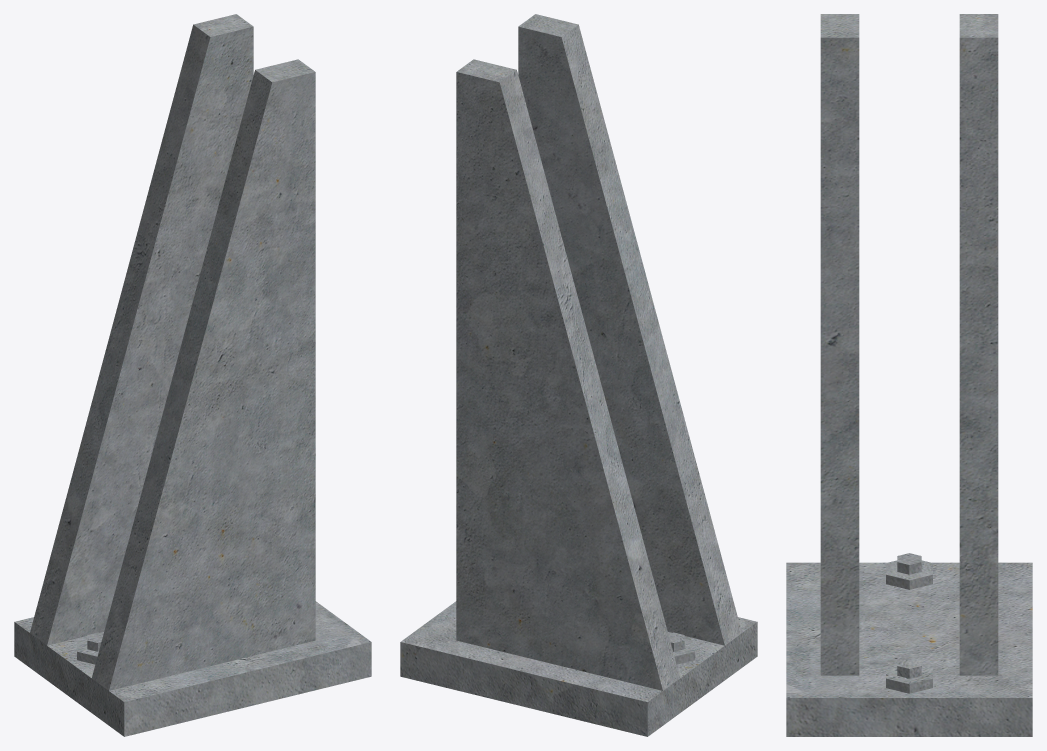
The model's file is RailBracket01.fbx.
3 renders of one model, left to right at view 1: azimuth 30°, elevation 25°; view 2: azimuth 150°, elevation 25°; view 3: azimuth 270°, elevation 25°, orthographic. The views are drawn at different scales.
Visible parts, largest first — view 1: RailBracket01; view 2: RailBracket01; view 3: RailBracket01.
Part boxes in pixels (x1,y1,x2,y2): RailBracket01: (14, 14, 371, 736); RailBracket01: (400, 14, 757, 736); RailBracket01: (786, 14, 1032, 736).
Bounding box in the file's own units: 34.75 × 26.75 × 81.05.
1 material, 1 textured.
